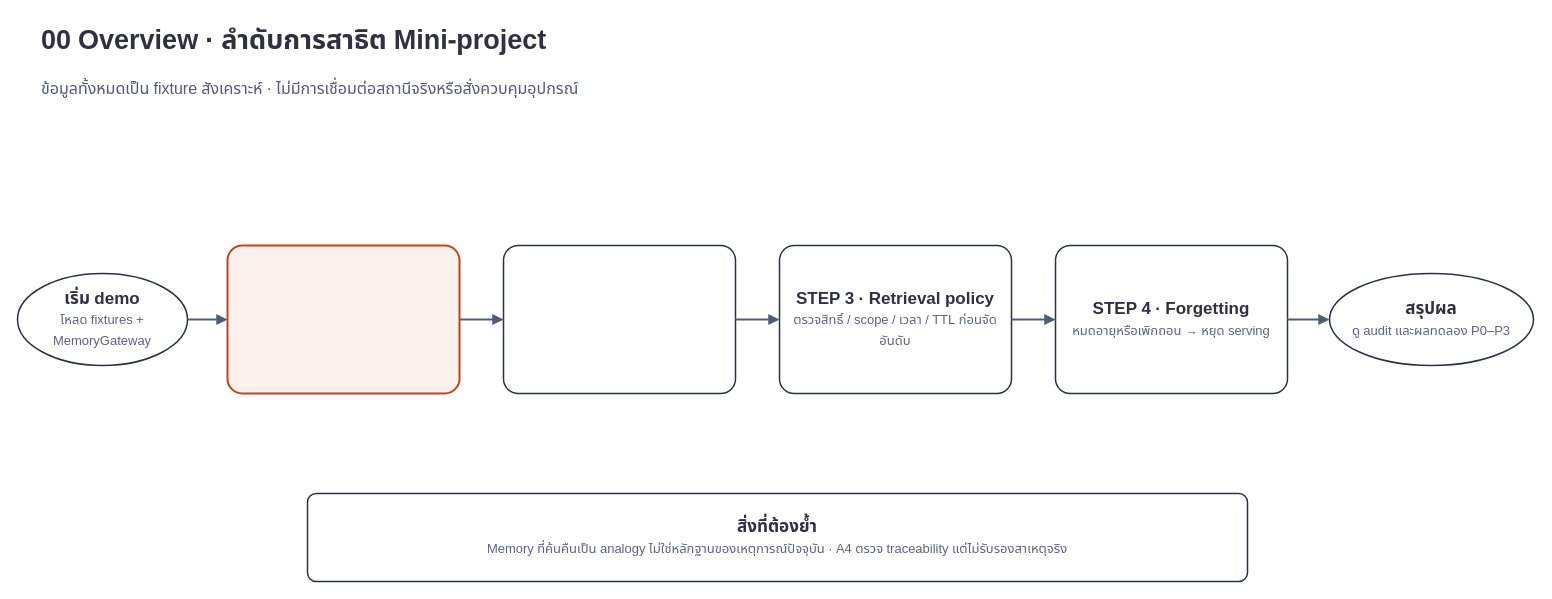
Image size: 1552x599. Some labels were removed from this diagram. Each missing label, with the box of its shape:
STEP 1 · Agent pipeline A1 ตรวจ → A2 เติมบริบท → A3 วินิจฉัย → A4 ตรวจ: (226, 244, 460, 394)
STEP 2 · Memory write ผลผ่าน A4 → summary pending → reviewer: (502, 244, 736, 394)
